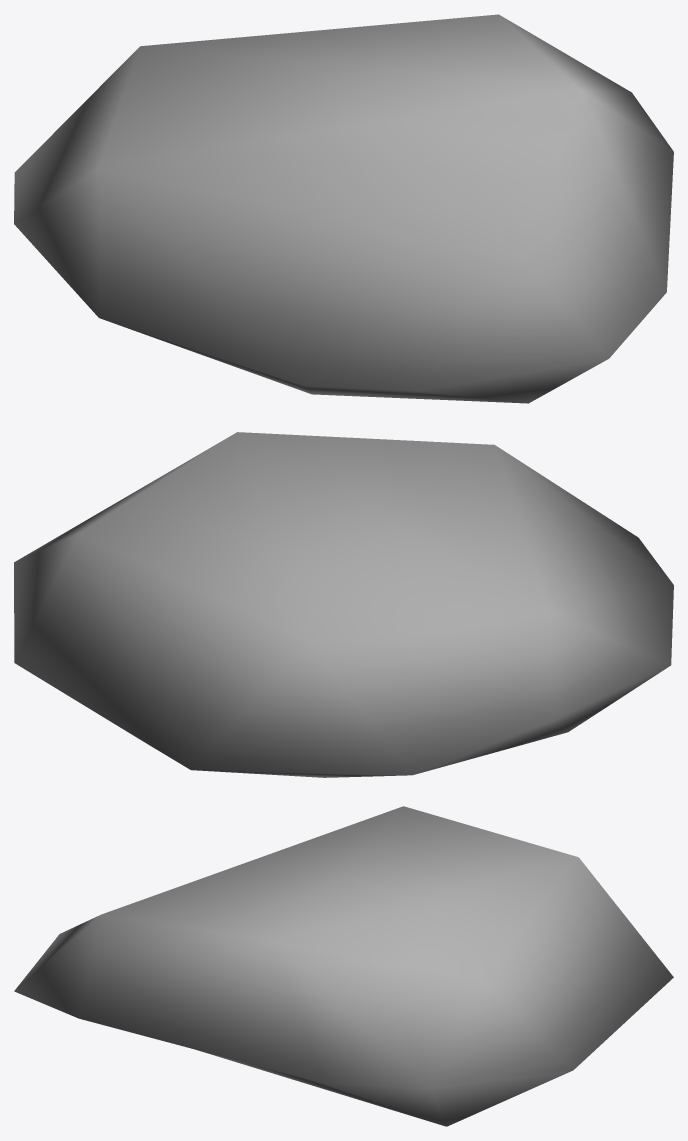
The model's file is SK_Rock_006.FBX.
3 views of the same model, one above another, from view 1: azimuth 30°, elevation 25°; view 2: azimuth 150°, elevation 25°; view 3: azimuth 270°, elevation 25° (orthographic). The views are drawn at different scales.
Visible parts, largest first — view 1: SK_Rock_006; view 2: SK_Rock_006; view 3: SK_Rock_006.
Boxes of the visible parts, left/top/right/bottom form: SK_Rock_006: left=14, top=14, right=673, bottom=403; SK_Rock_006: left=14, top=432, right=673, bottom=777; SK_Rock_006: left=14, top=806, right=673, bottom=1126.
Bounding box in the file's own units: 45.17 × 11.77 × 50.45.
1 material, 1 textured.
